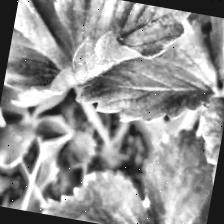Powdery Mildew Leaf: (9, 0, 197, 134)
